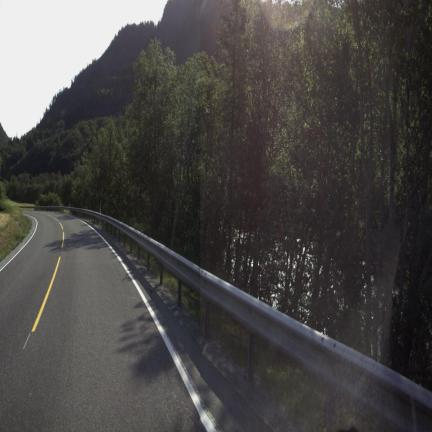Road: (0, 212, 203, 430)
